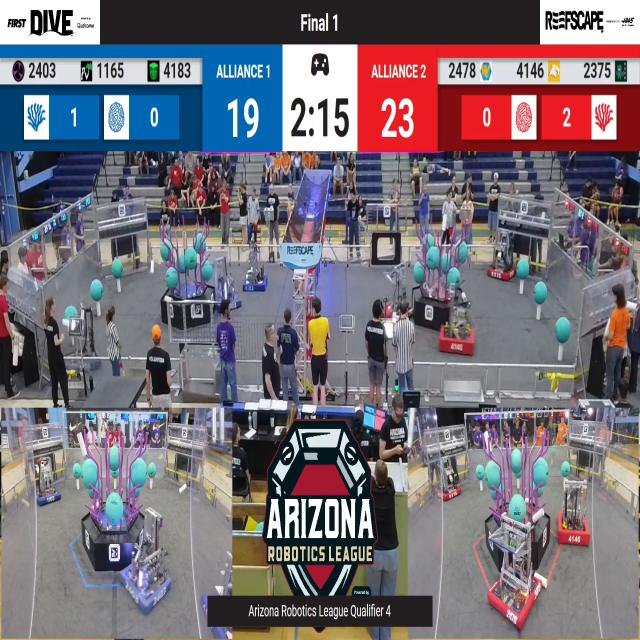scoreboard: (0, 43, 640, 151)
